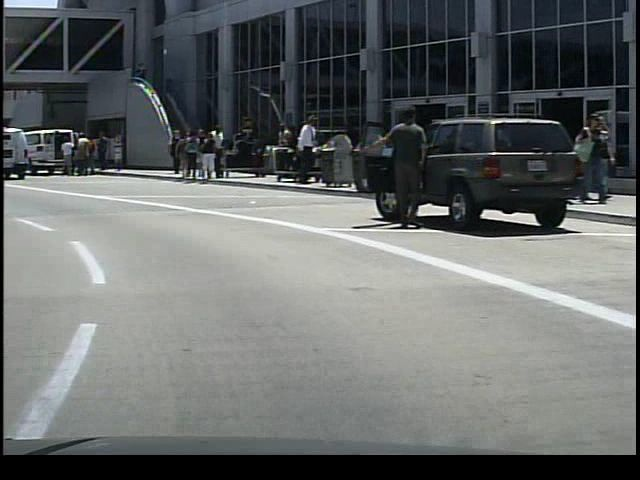person: (370, 97, 427, 234), (569, 107, 605, 204), (284, 112, 315, 193), (204, 122, 229, 181), (162, 124, 185, 175), (194, 129, 216, 180), (90, 129, 112, 176), (72, 130, 90, 179), (56, 135, 75, 177)
